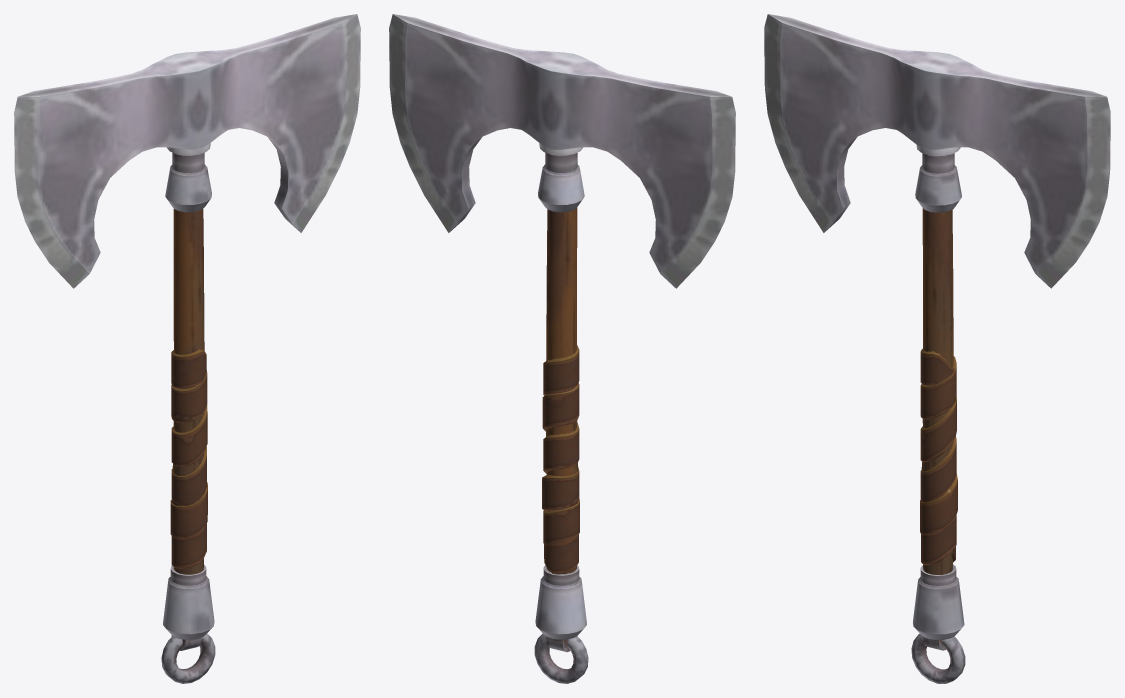
Rendered from Axe_Double_Steel.gltf.
3 views of the same model, side by side, from view 1: azimuth 30°, elevation 25°; view 2: azimuth 150°, elevation 25°; view 3: azimuth 330°, elevation 25° (orthographic).
Visible parts, largest first — view 1: Axe_Double_Steel; view 2: Axe_Double_Steel; view 3: Axe_Double_Steel.
Boxes of the visible parts, box(x1,y1,x2,y2) form: Axe_Double_Steel: box(14, 14, 360, 683); Axe_Double_Steel: box(389, 14, 735, 683); Axe_Double_Steel: box(764, 14, 1110, 683).
Size of the model in its own units: 0.4824 by 0.8331 by 0.0629.
2 materials, 2 textured.
